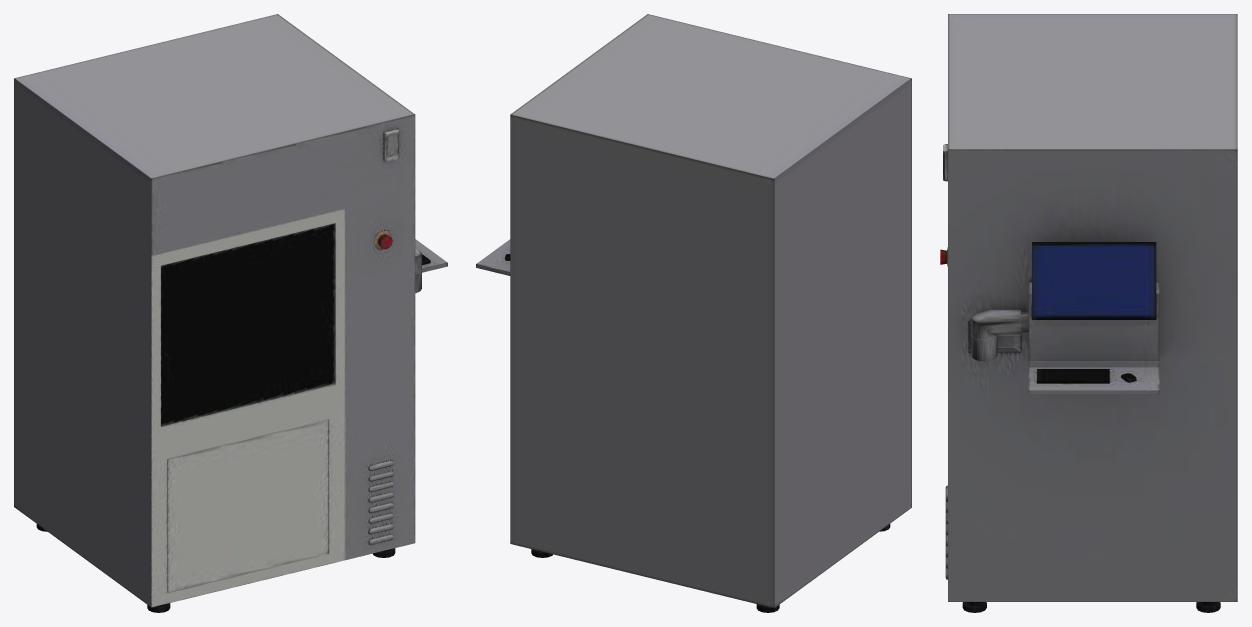
3 views of the same model, side by side, from view 1: azimuth 30°, elevation 25°; view 2: azimuth 150°, elevation 25°; view 3: azimuth 270°, elevation 25° (orthographic). The views are drawn at different scales.
Parts seen in each view (by area): view 1: 2-lite450 (1)_0; view 2: 2-lite450 (1)_0; view 3: 2-lite450 (1)_0.
Part boxes in pixels (box(x1,y1,x2,y2)): 2-lite450 (1)_0: box(14, 14, 447, 612); 2-lite450 (1)_0: box(476, 14, 911, 612); 2-lite450 (1)_0: box(940, 14, 1237, 612).
Bounding box in the file's own units: 1.55 × 1.96 × 1.13.
Materials: 1 (1 with a texture image).
